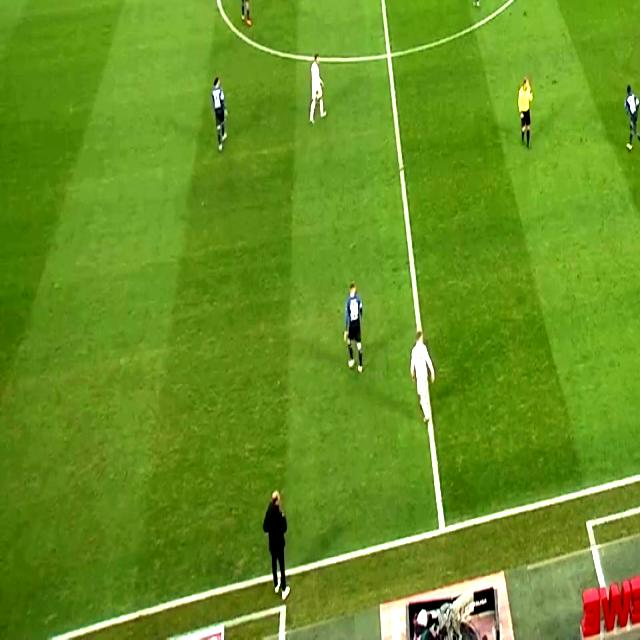referee: (510, 73, 539, 151)
soccer-player: (336, 279, 374, 380), (405, 332, 442, 431), (205, 75, 236, 160), (301, 48, 331, 127), (614, 79, 640, 156), (230, 0, 256, 31), (465, 0, 491, 14), (636, 15, 640, 90)
